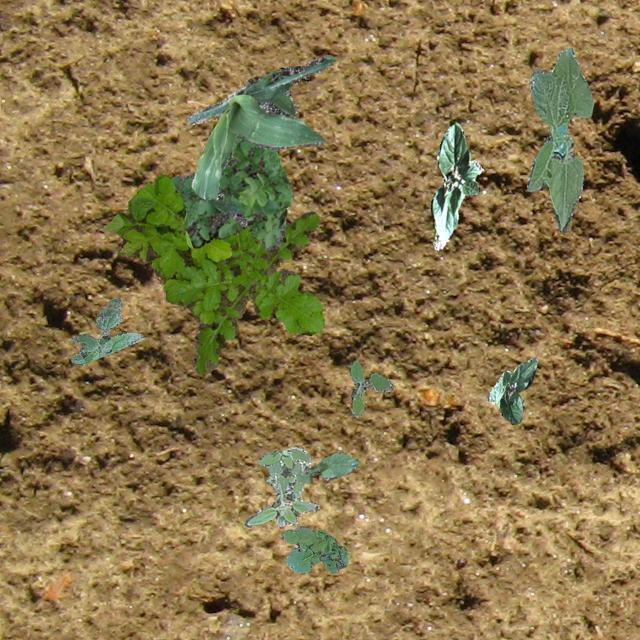crop: (187, 54, 336, 226), (526, 46, 592, 232), (430, 122, 482, 250), (486, 356, 536, 424), (266, 450, 358, 484)
weed: (102, 174, 324, 374), (170, 136, 292, 250), (244, 446, 318, 526), (68, 296, 142, 364), (280, 524, 348, 572), (348, 359, 394, 416)
